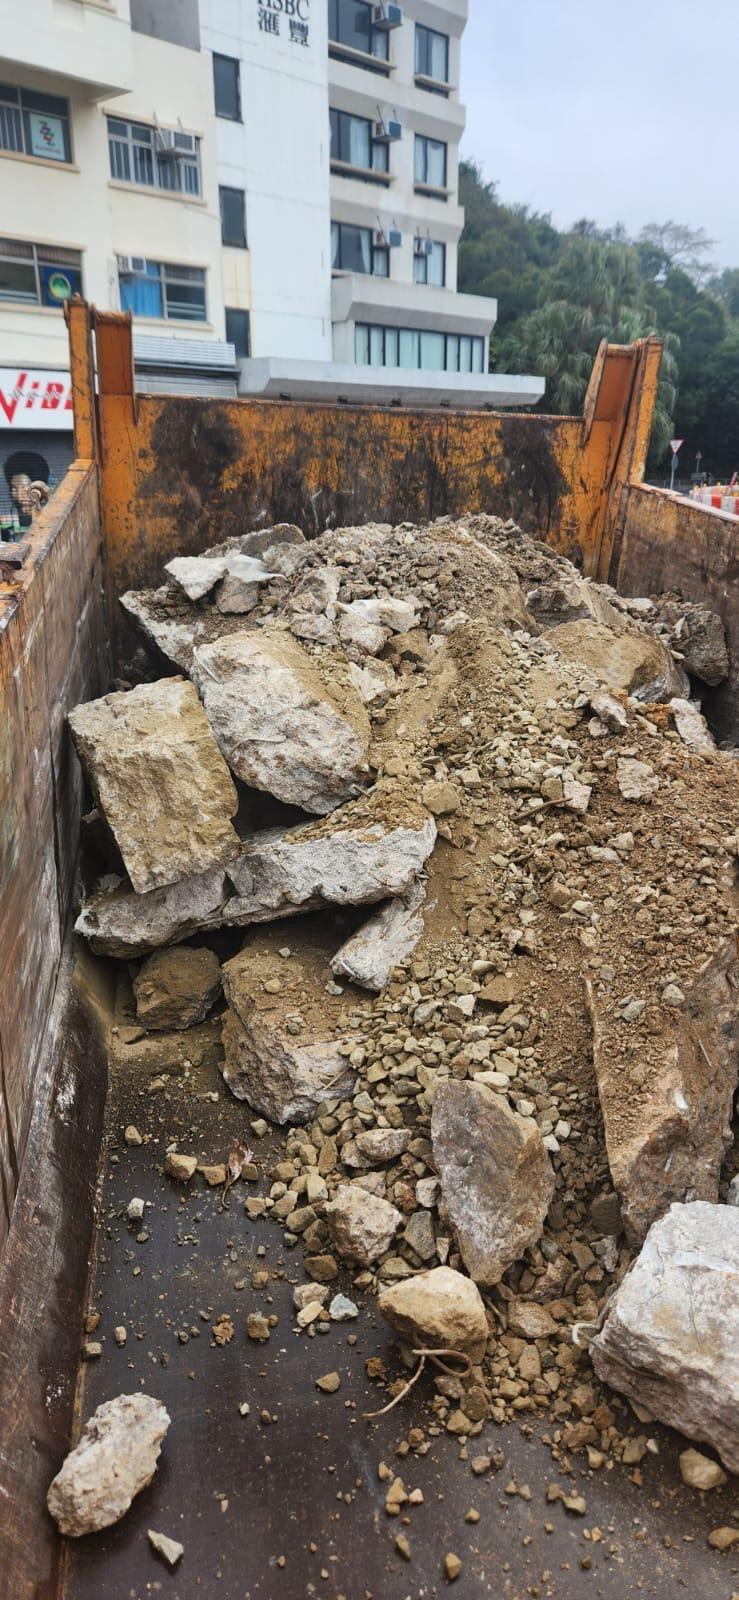dirt: (48, 510, 737, 1597)
stone: (580, 1198, 737, 1474), (66, 673, 242, 894), (190, 626, 374, 815), (428, 1077, 556, 1286), (45, 1390, 171, 1537), (376, 1264, 489, 1355), (130, 943, 223, 1031), (323, 1184, 403, 1264)
